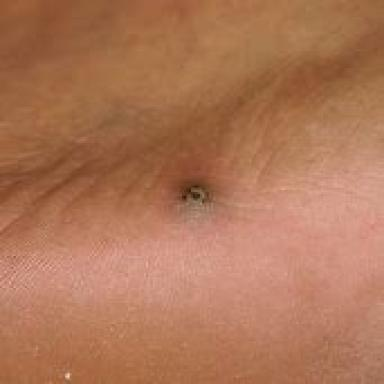Tungiasis: (181, 185, 213, 211)
